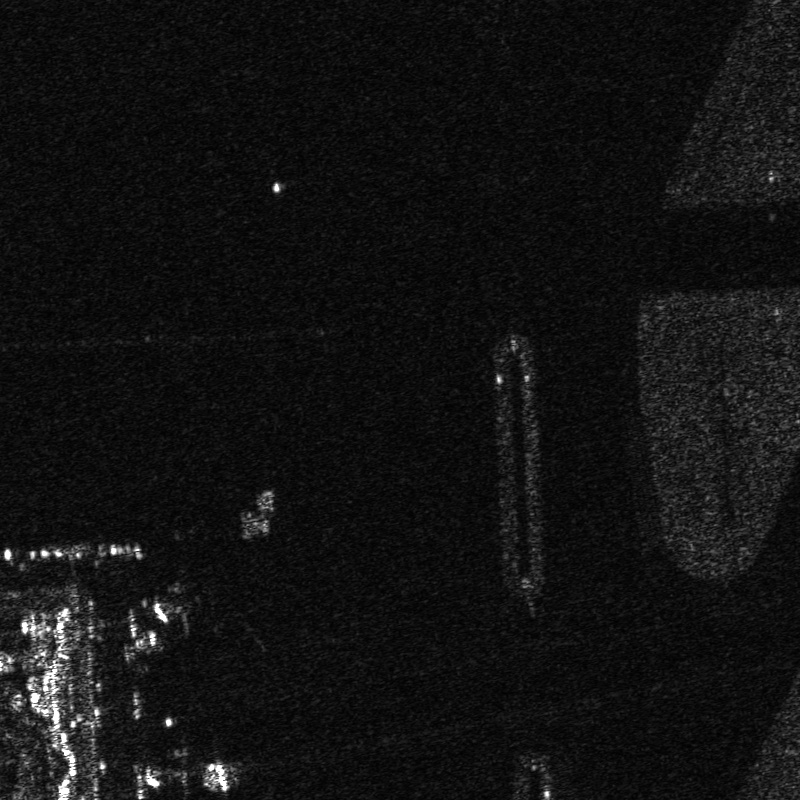A220: (141, 728, 247, 798)
